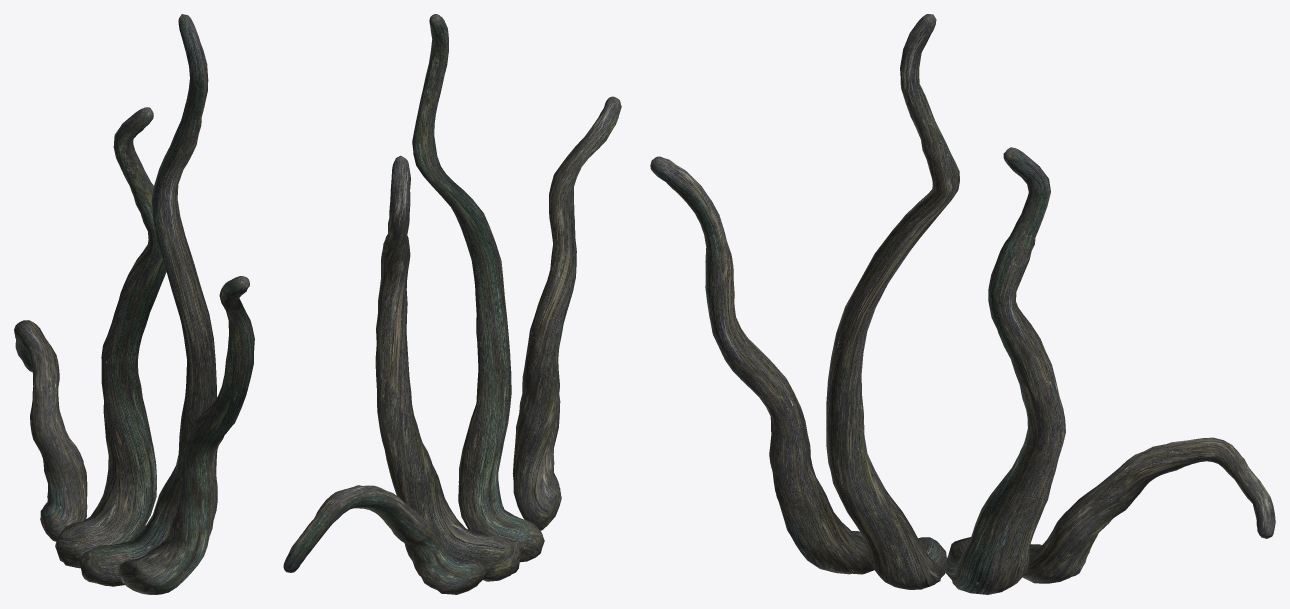
3 renders of one model, left to right at view 1: azimuth 30°, elevation 25°; view 2: azimuth 150°, elevation 25°; view 3: azimuth 270°, elevation 25°, orthographic. The views are drawn at different scales.
Parts seen in each view (by area): view 1: SM_Root_LOD0; view 2: SM_Root_LOD0; view 3: SM_Root_LOD0.
Part boxes in pixels (<box>): SM_Root_LOD0: <box>14,14,254,594</box>; SM_Root_LOD0: <box>283,14,621,594</box>; SM_Root_LOD0: <box>650,14,1275,594</box>.
Bounding box in the file's own units: 1.03 × 4.17 × 3.84.
Materials: 1 (1 with a texture image).
